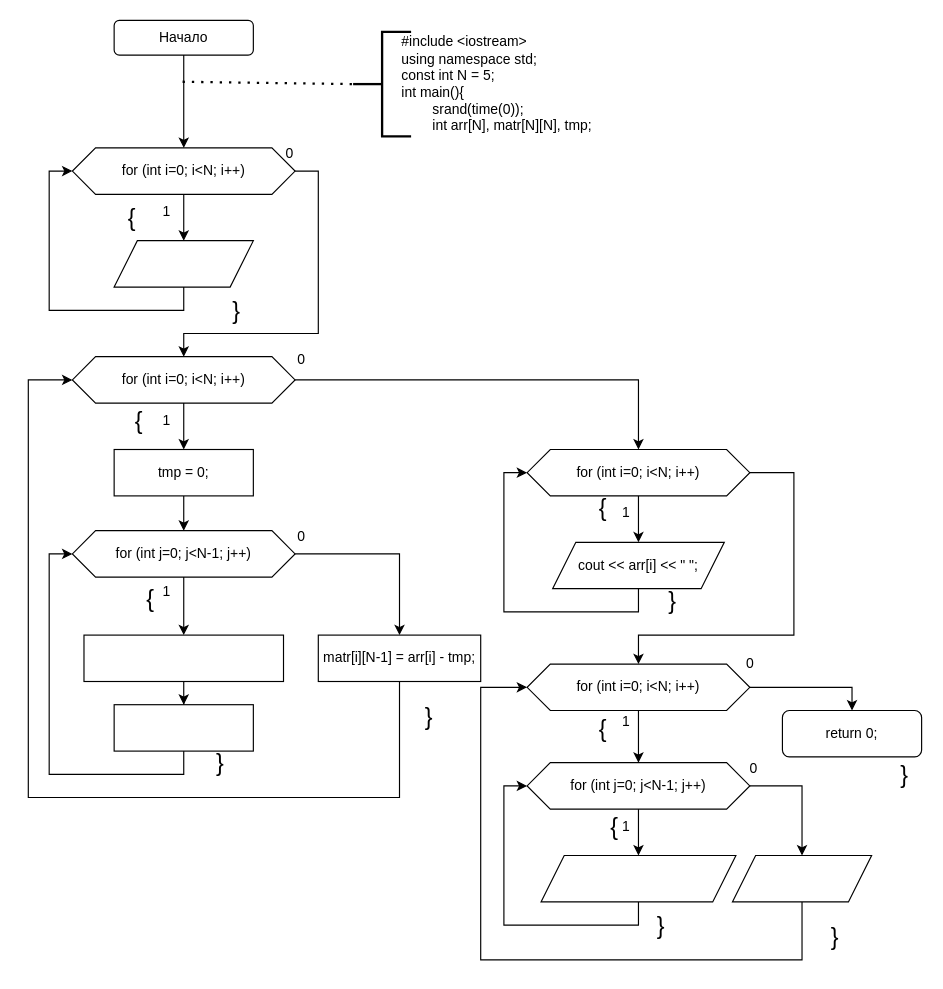
The diagram is 943 pixels wide and 989 high, and some of its shapes have lost their labels. Here are the shapes that lost their labels. From the top down, the centre of each, then its label:
(183,263): cin >> arr[i];
(183,658): matr[i][j] = rand()%101-50;
(183,727): tmp += matr[i][j];
(638,878): cout << matr[i][j] << " ";
(801,878): cout << endl;
